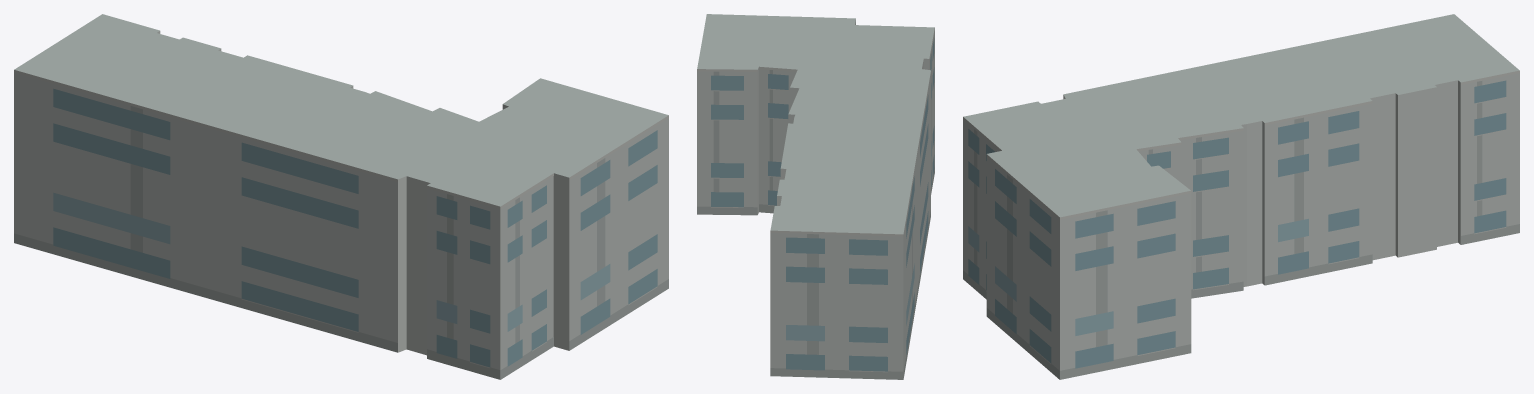
File: residential-3baec31a-6b97-4dfd-a657-897469e860b2.glb
The picture shows the model from 3 angles, left to right: view 1: azimuth 30°, elevation 25°; view 2: azimuth 150°, elevation 25°; view 3: azimuth 270°, elevation 25°; orthographic projection. The views are drawn at different scales.
Visible parts, largest first — view 1: residential-3baec31a-6b97-4dfd-a657-897469e860b2.tmp; view 2: residential-3baec31a-6b97-4dfd-a657-897469e860b2.tmp; view 3: residential-3baec31a-6b97-4dfd-a657-897469e860b2.tmp.
Part boxes in pixels (box(x1,y1,x2,y2)): residential-3baec31a-6b97-4dfd-a657-897469e860b2.tmp: box(14, 14, 668, 379); residential-3baec31a-6b97-4dfd-a657-897469e860b2.tmp: box(697, 14, 934, 379); residential-3baec31a-6b97-4dfd-a657-897469e860b2.tmp: box(963, 14, 1519, 379).
Size of the model in its own units: 40.95 by 15.25 by 47.35.
